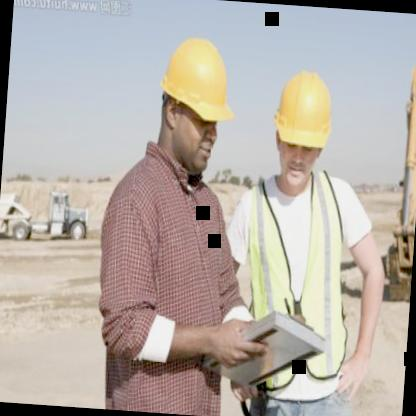helmet: (143, 18, 243, 187), (263, 52, 342, 200)
